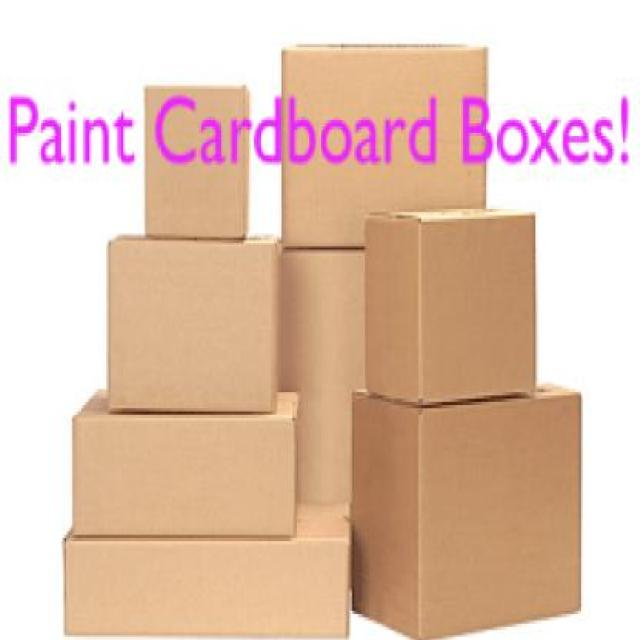box: (351, 361, 594, 640), (275, 29, 511, 264), (261, 212, 399, 548), (48, 497, 357, 640), (63, 376, 311, 546), (362, 204, 541, 417), (96, 225, 287, 415), (139, 72, 250, 255)
